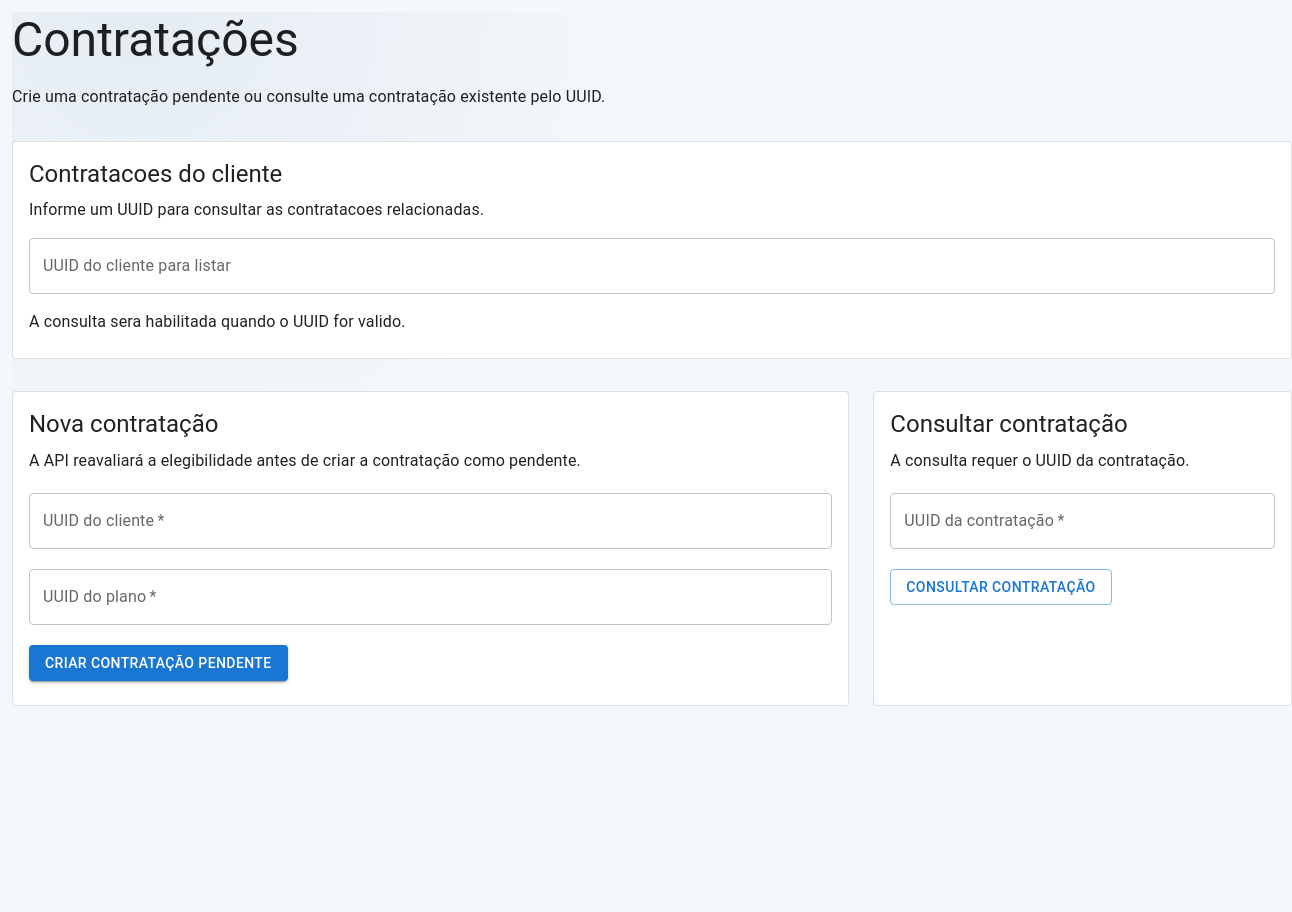
it: PaginaContratacoes › impede uma consulta local com UUID invalido
The image size is (1292, 912).
In the field labelled "UUID da contratação": [1083, 521] box [890,493,1275,549], type "id-invalido"
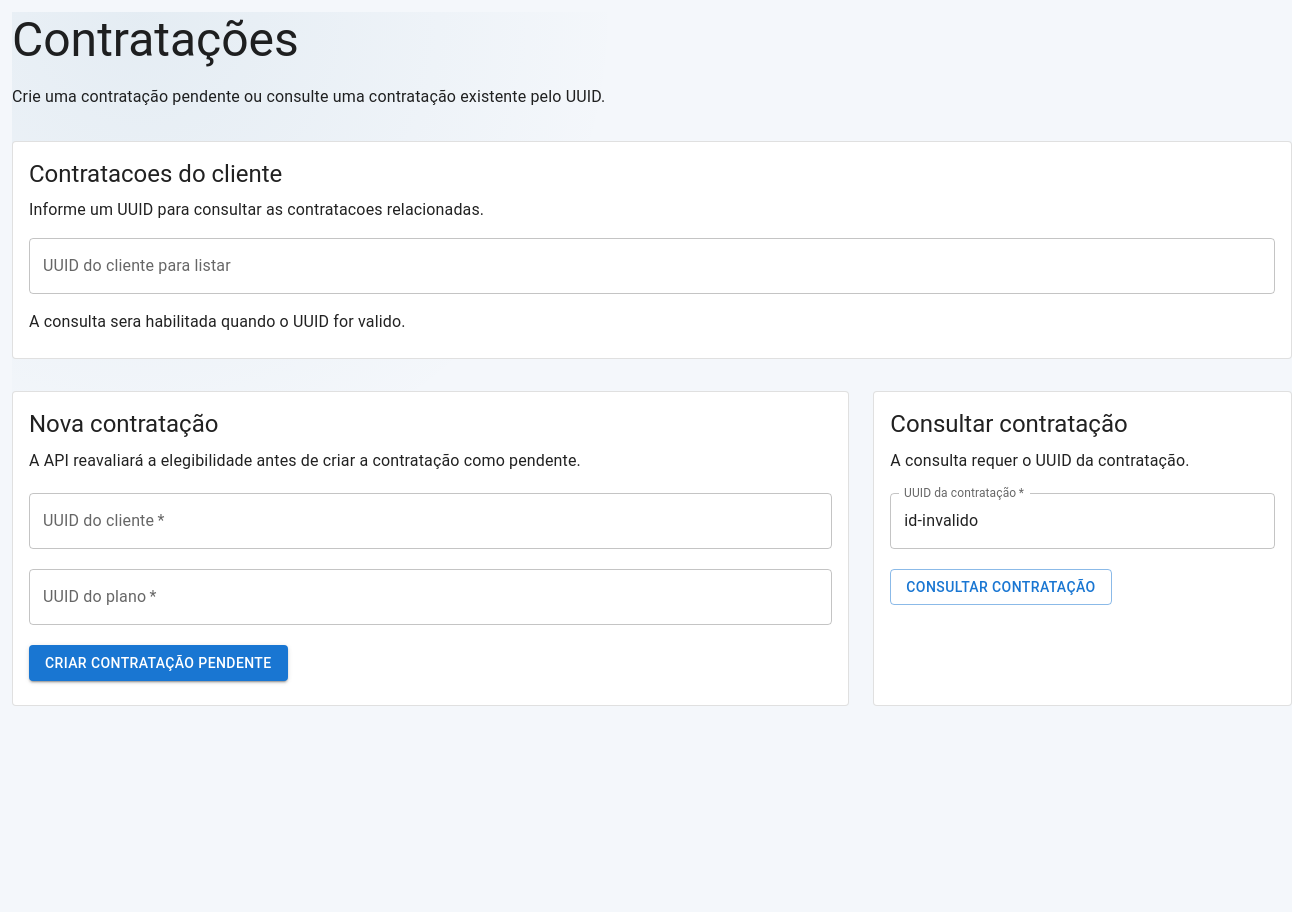
Click the button "Consultar contratação": [1001, 587] box [890,569,1112,605]
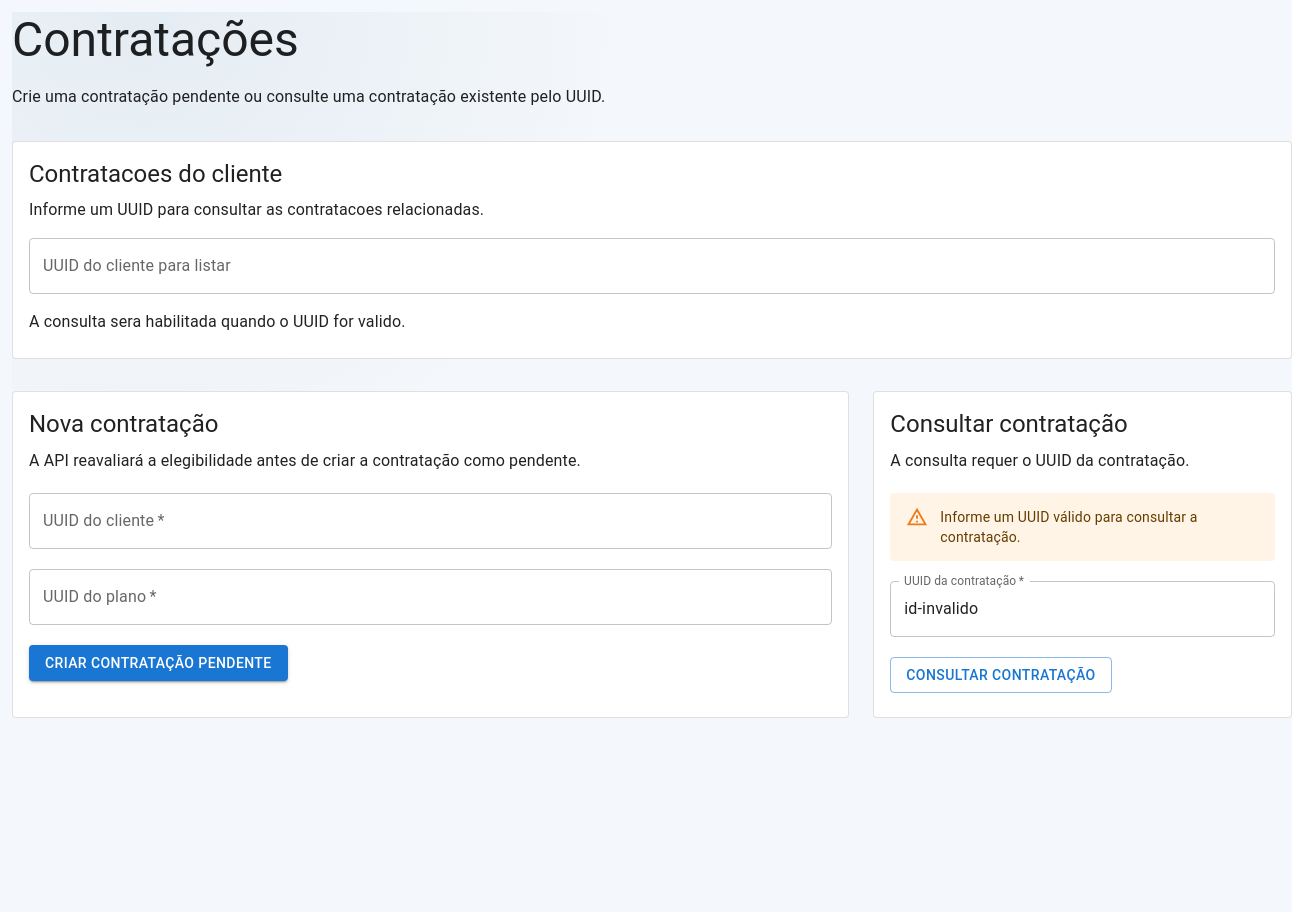
Now the message reads "Informe um UUID válido para consultar a contratação.", box [940,509,1198,545]
